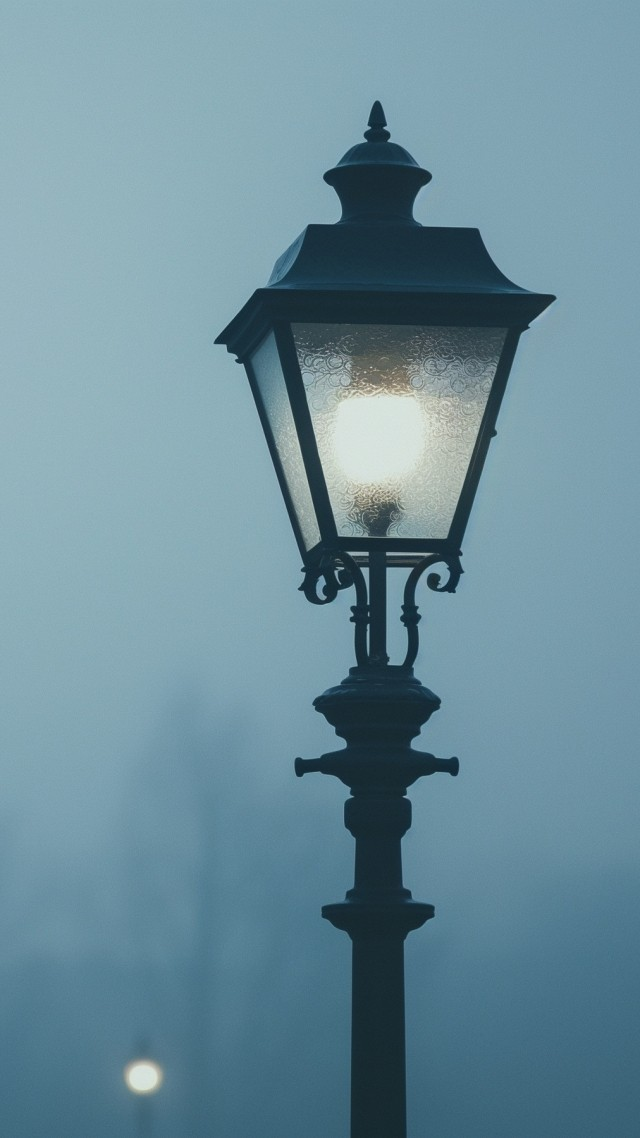Lamp: (223, 94, 556, 1136)
